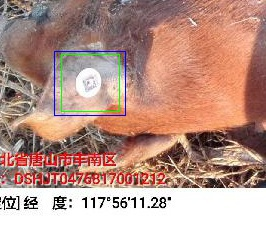text: (61, 54, 119, 111)
